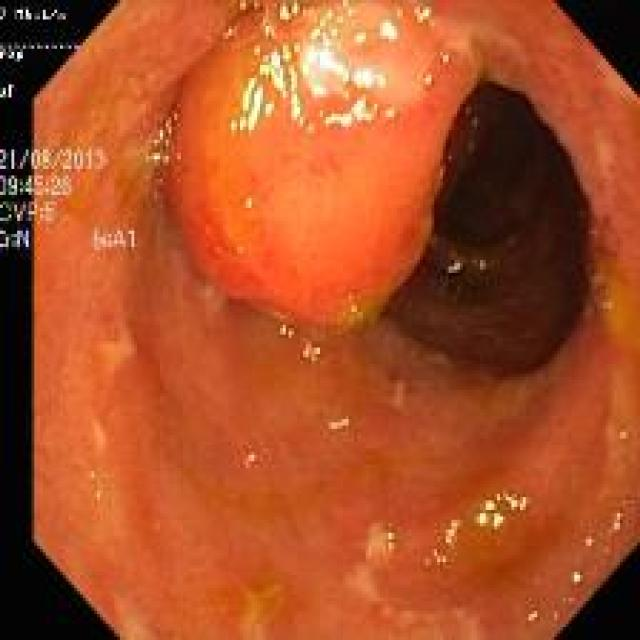Polyps: (164, 3, 638, 330)
